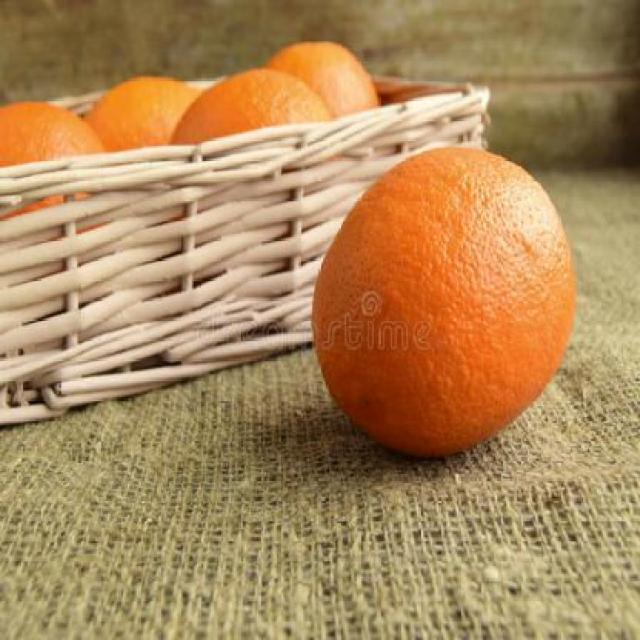Jeruk Sudah Matang: (312, 144, 574, 458), (166, 68, 340, 276), (75, 77, 216, 280), (237, 39, 385, 222), (0, 100, 123, 314)
